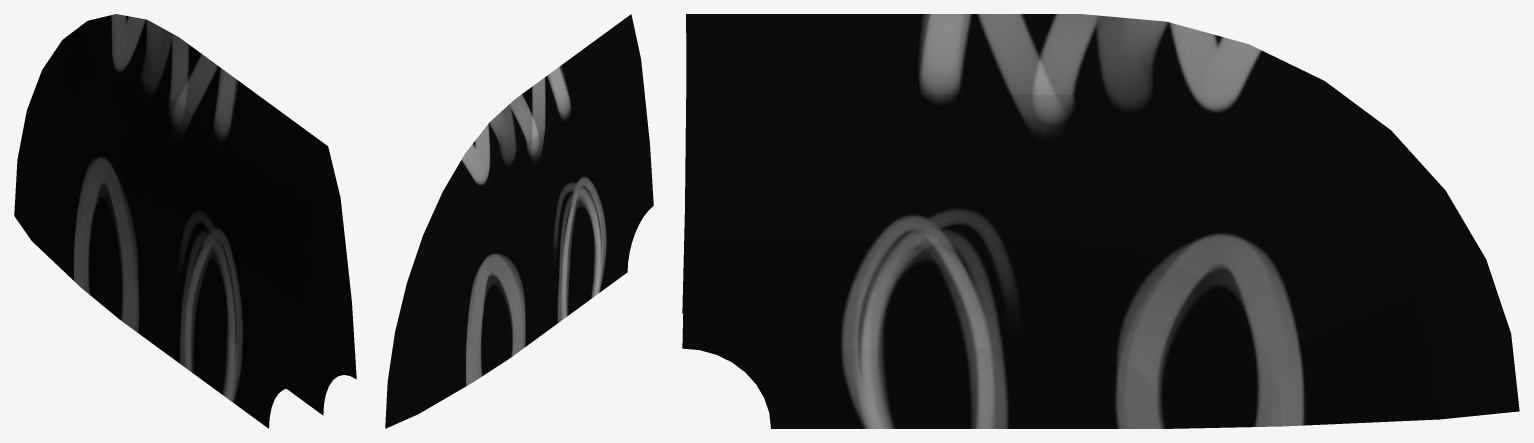
The model's file is Sword_Ego_Back_R01_Mirror.fbx.
3 renders of one model, left to right at view 1: azimuth 30°, elevation 25°; view 2: azimuth 150°, elevation 25°; view 3: azimuth 270°, elevation 25°, orthographic. The views are drawn at different scales.
Parts seen in each view (by area): view 1: Cylinder.006; view 2: Cylinder.006; view 3: Cylinder.006.
Boxes of the visible parts, left/top/right/bottom form: Cylinder.006: left=14, top=14, right=356, bottom=428; Cylinder.006: left=385, top=14, right=653, bottom=428; Cylinder.006: left=682, top=14, right=1519, bottom=428.
Bounding box in the file's own units: 191 × 18.98 × 100.
